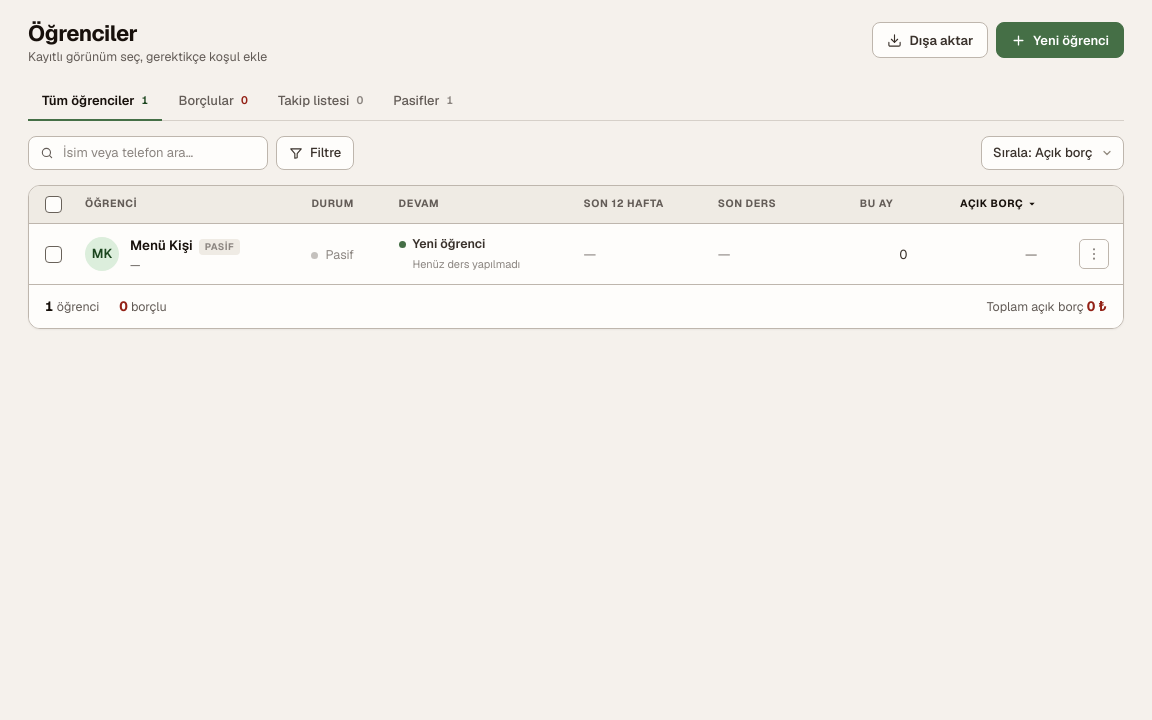
Test case: StudentsPage › yalnız etkinlik/not geçmişi olan öğrencide kapsamı gösterip onay ister
Expected: the text "Menü Kişi pasif" is shown, [130,235,240,255]
What coordinates should you click on to do the following:
click the button named "İşlemler"
I would click on:
 (1094, 254)
Its box is [1079,239,1109,269].
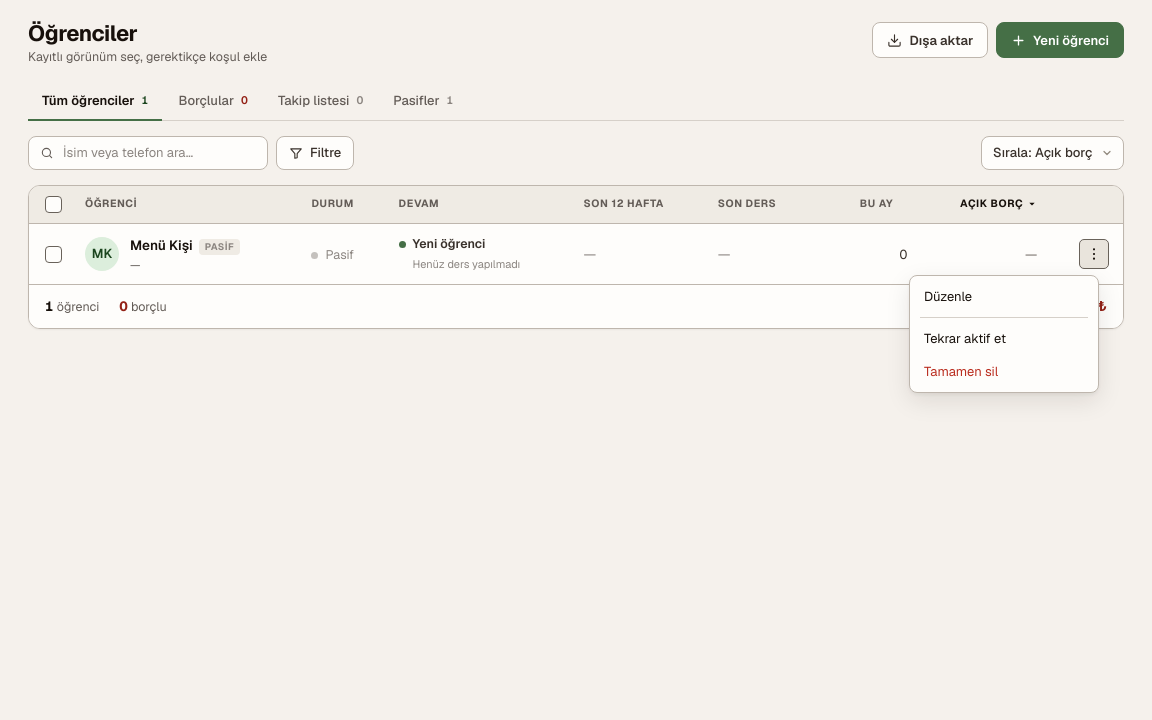
What coordinates should you click on to do the following:
click the menu item "Tamamen sil"
I would click on:
 (1004, 372)
Its box is [914,355,1094,388].
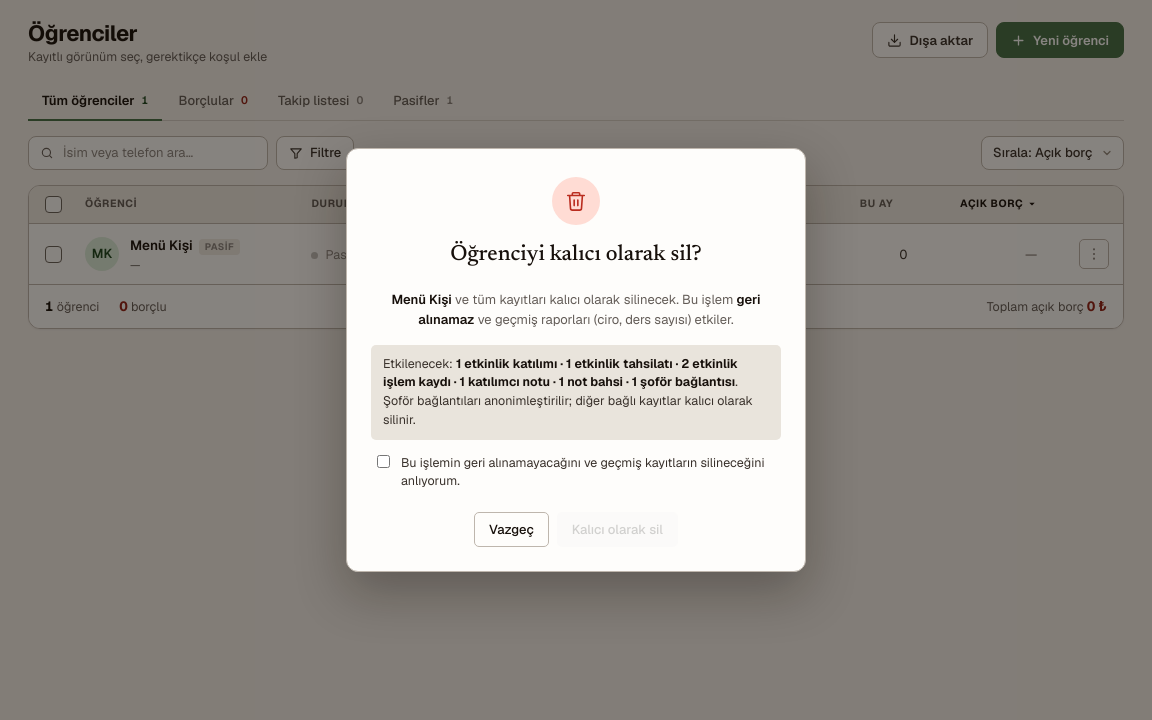
Result: the text "1 not bahsi" is shown at [383,354,738,390]
Result: the text "şoför bağlantıları anonimleştirilir" is shown at [383,373,753,428]
Result: the button "Kalıcı olarak sil" is disabled at [557,512,678,547]
